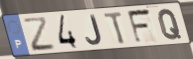4: (56, 13, 80, 50)
F: (126, 7, 154, 45)
J: (84, 14, 104, 47)
Q: (157, 8, 183, 41)
T: (102, 10, 128, 45)
Z: (21, 16, 58, 53)
